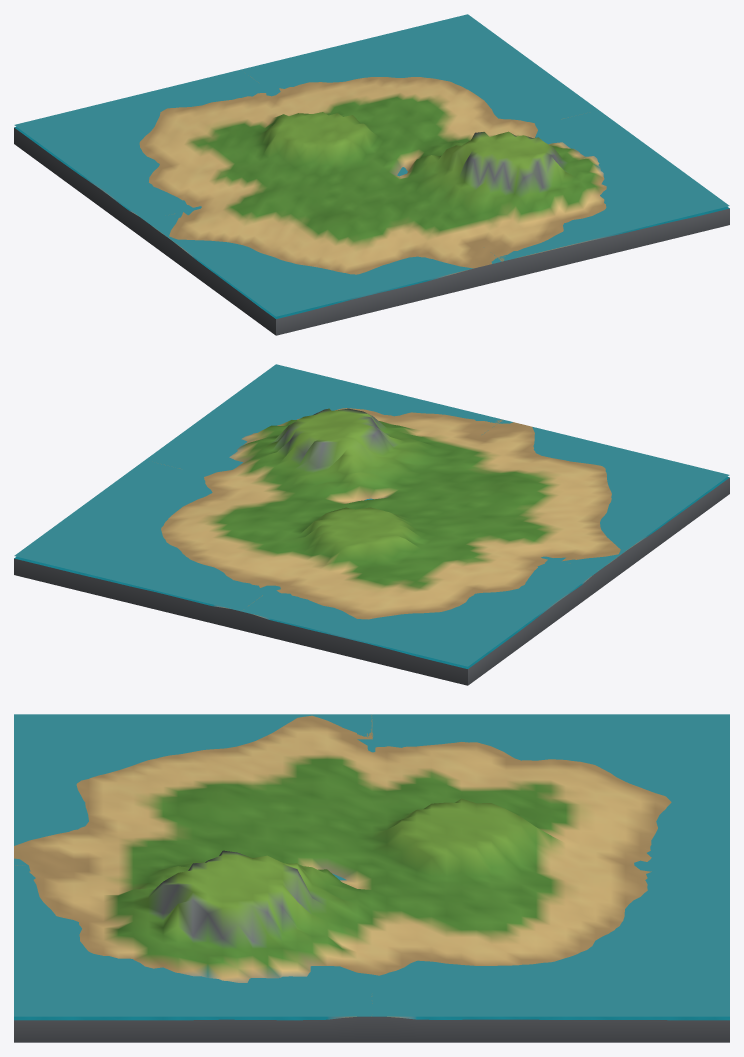
The model's file is far.glb.
3 renders of one model, top to bottom at view 1: azimuth 30°, elevation 25°; view 2: azimuth 150°, elevation 25°; view 3: azimuth 270°, elevation 25°, orthographic. The views are drawn at different scales.
Visible parts, largest first — view 1: far-proxy; view 2: far-proxy; view 3: far-proxy.
Part boxes in pixels (left/top/right/bottom): far-proxy: left=14, top=14, right=729, bottom=335; far-proxy: left=14, top=364, right=729, bottom=685; far-proxy: left=14, top=714, right=729, bottom=1042.
Bounding box in the file's own units: 500 × 57.89 × 500.
